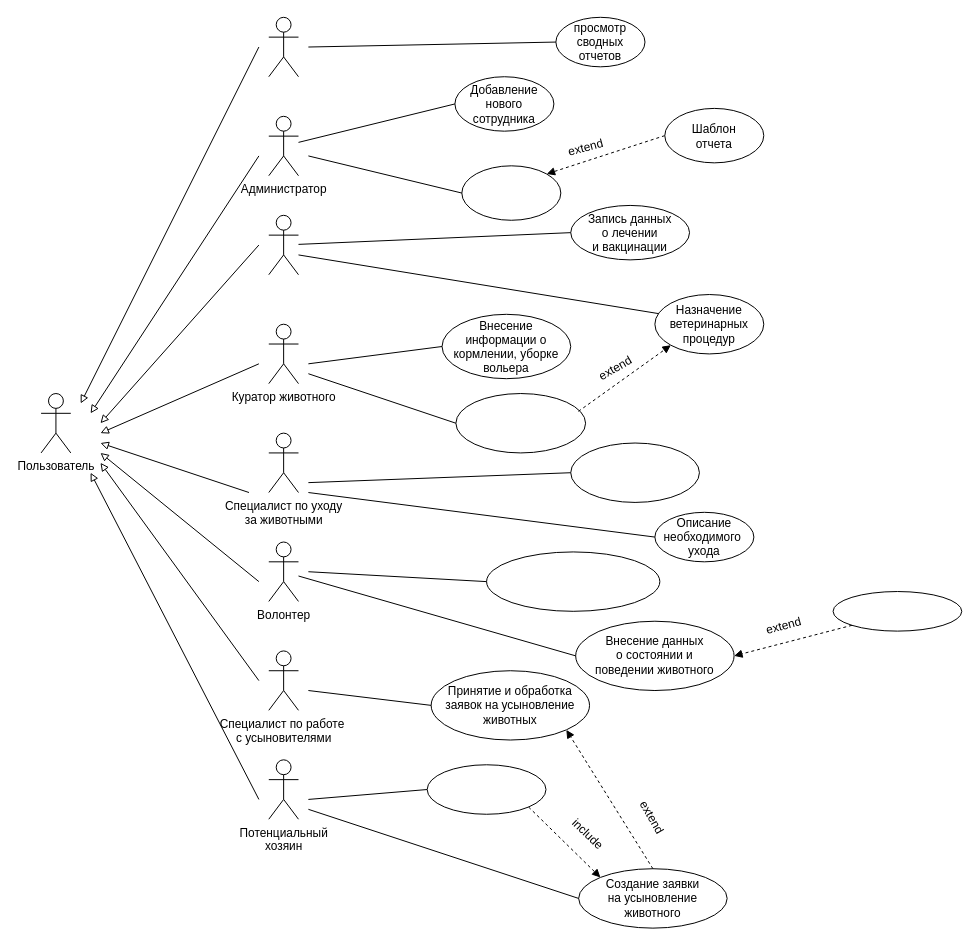
Image size: 979x945. Some labels were removed from this diagram. The shapes that lost their labels are listed below. From the top down, each one's box as (x1, y1, x2, y2) in pixels, then its label:
(268, 16, 298, 77): Директор
(461, 165, 561, 220): Формирование отчётности
(268, 214, 298, 275): Ветеринар
(455, 393, 586, 453): Создание заявки на лечение животного
(570, 442, 699, 502): Регистрация нового животного в системе
(486, 551, 660, 611): Помощь специалисту по уходу за животными
(832, 591, 962, 631): данные животного
(426, 764, 546, 814): просмотр каталога животных
